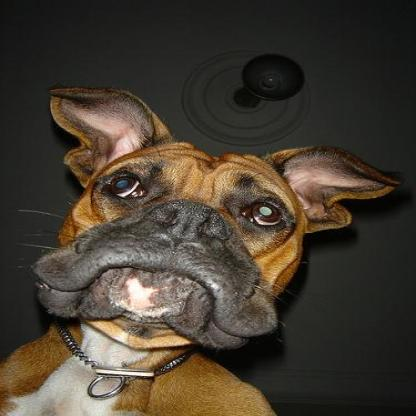boxer: (0, 84, 413, 414)
